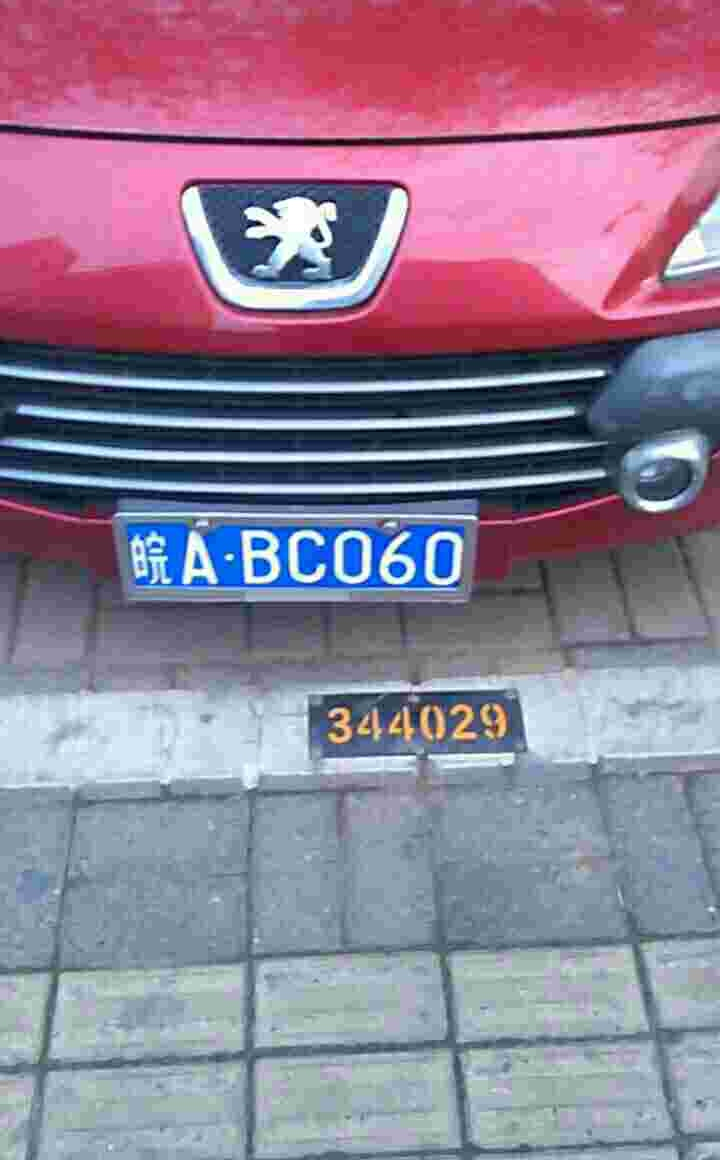license_plate: (116, 518, 474, 592)
